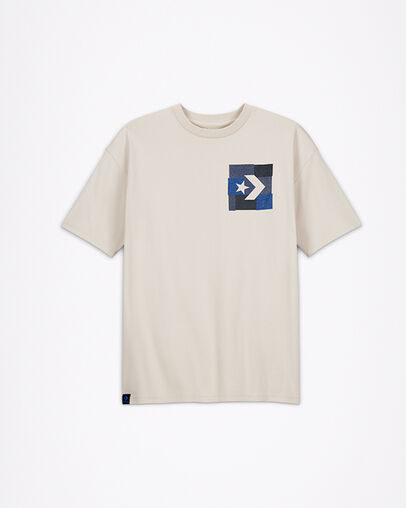round-necked tshirt: (57, 104, 360, 414)
